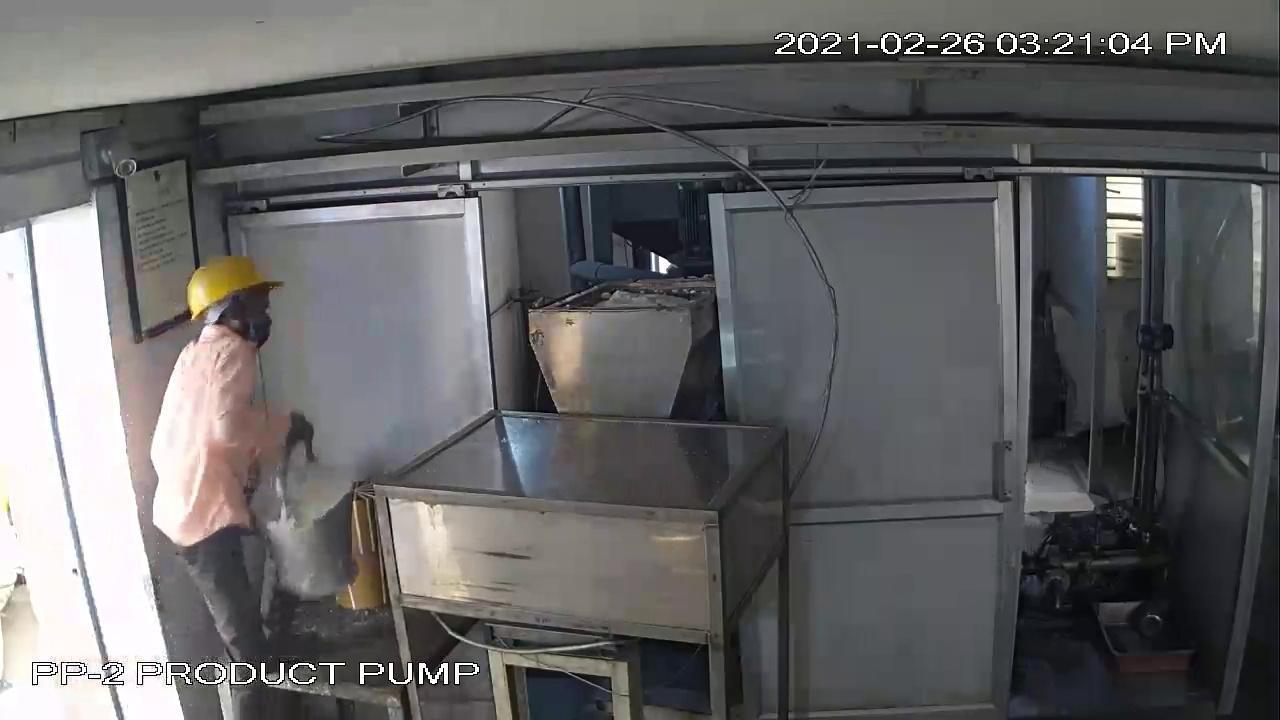helmet: (172, 250, 301, 322)
